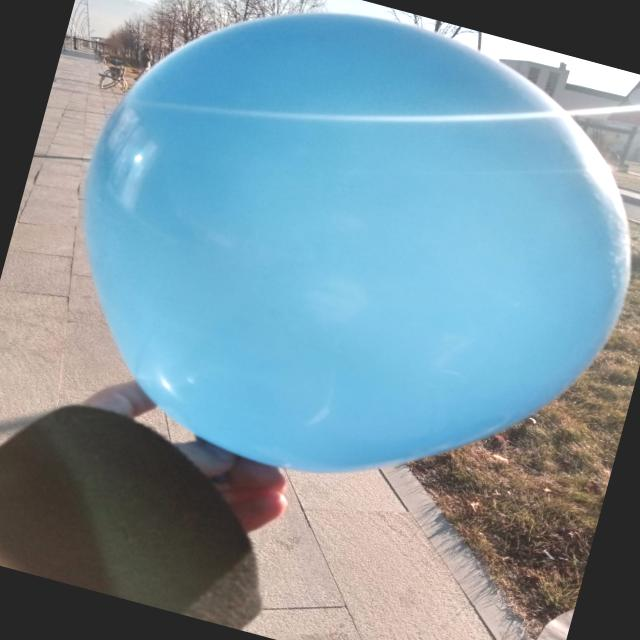balloon: (84, 13, 630, 472)
